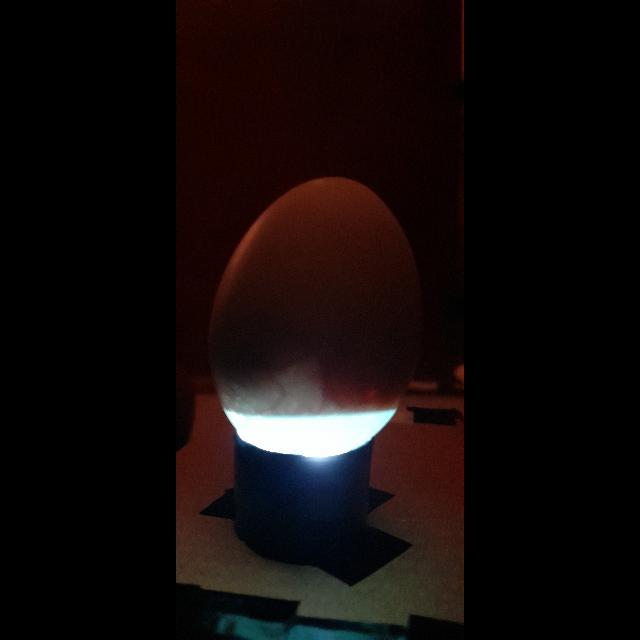Fertile: (206, 170, 414, 466)
